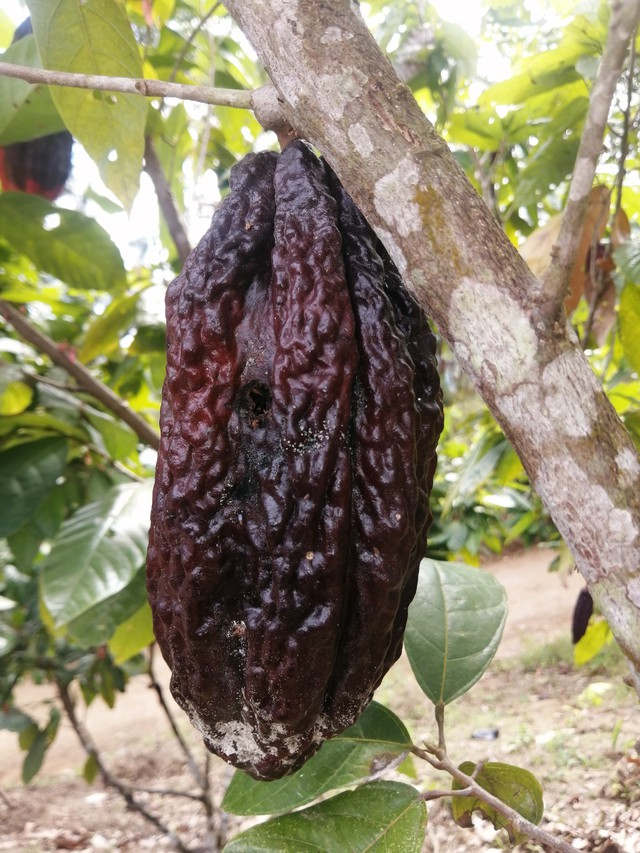carmenta foraseminis: (142, 145, 452, 785)
